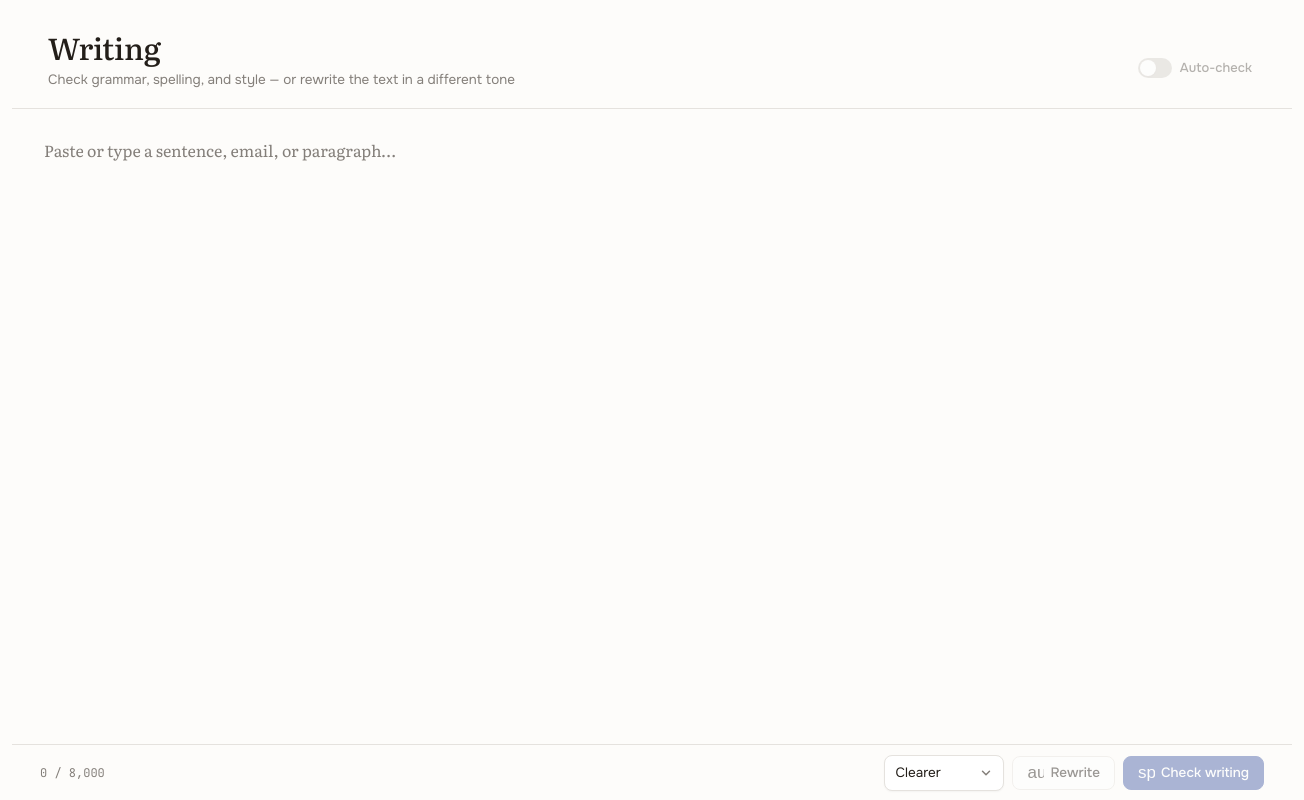
WritingPage › shows the rewritten text in the side panel
This screenshot has width=1304, height=800.
Step 1. Type "he go home" into the text box named "Text to check" → coordinates (652, 426), box [12,109,1292,744]
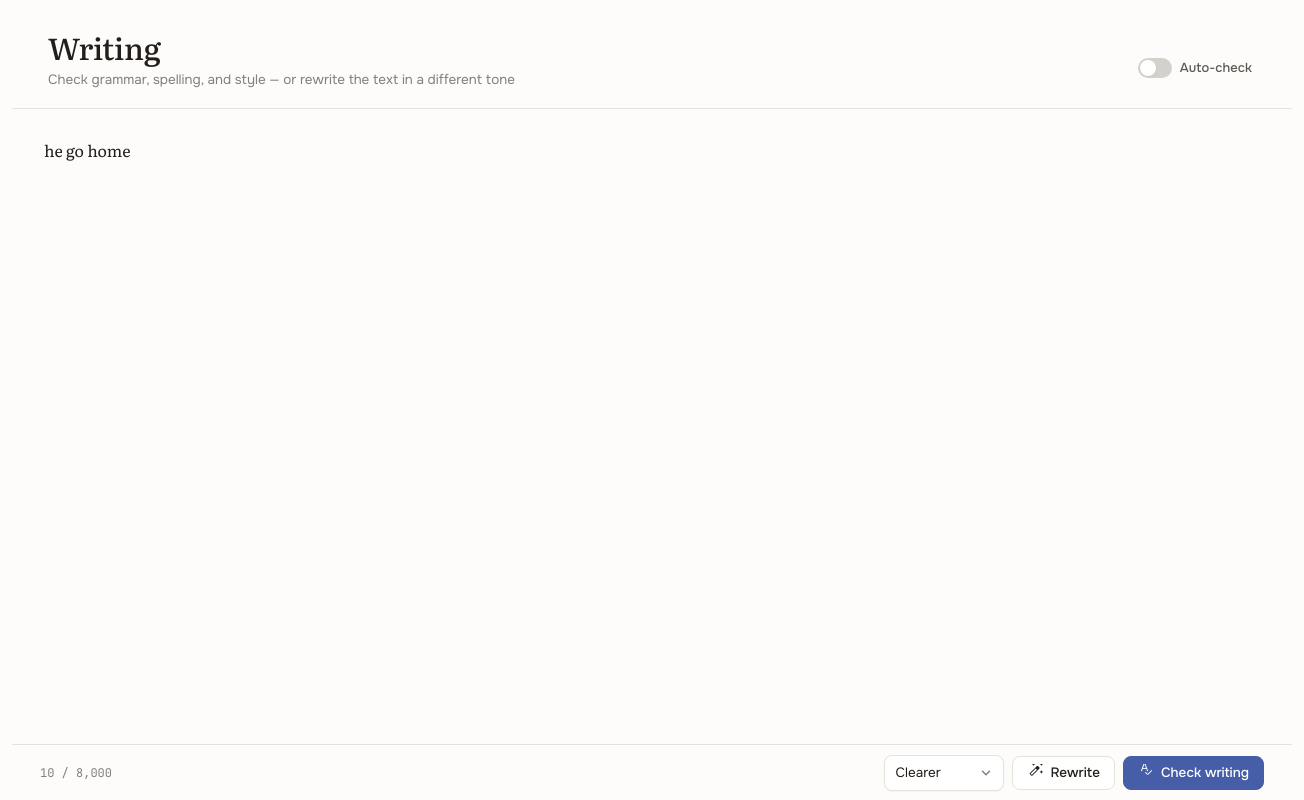
Step 2. Click the button with aria-label "Rewrite text" → coordinates (1064, 772), box [1012,756,1115,790]
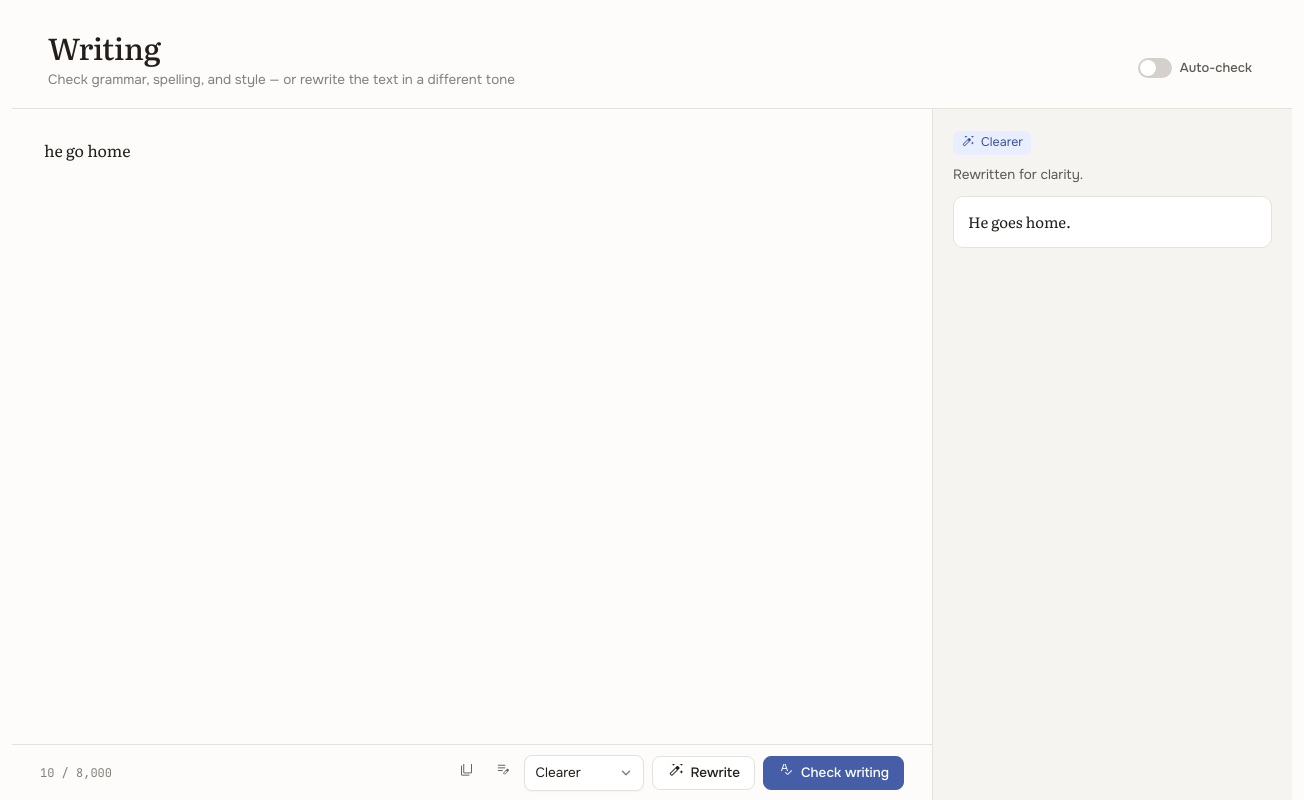
Now the text "Rewritten for clarity." is shown, box [953,166,1083,183]
Now the text named "Suggested text" reads "He goes home.", box [968,210,1071,233]
Step 3. Click the button named "Use suggested text as input" → coordinates (502, 772), box [488,758,516,786]
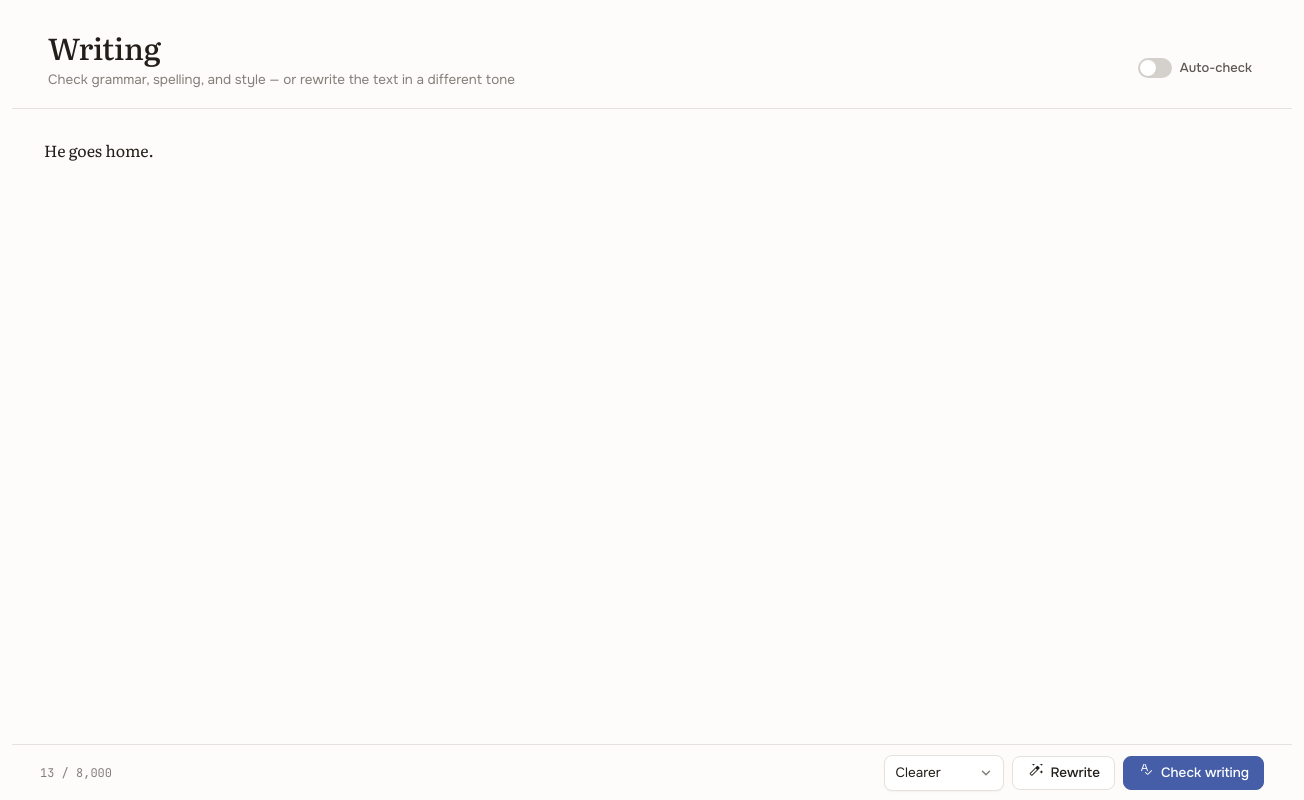
Now the text box named "Text to check" holds "He goes home."
